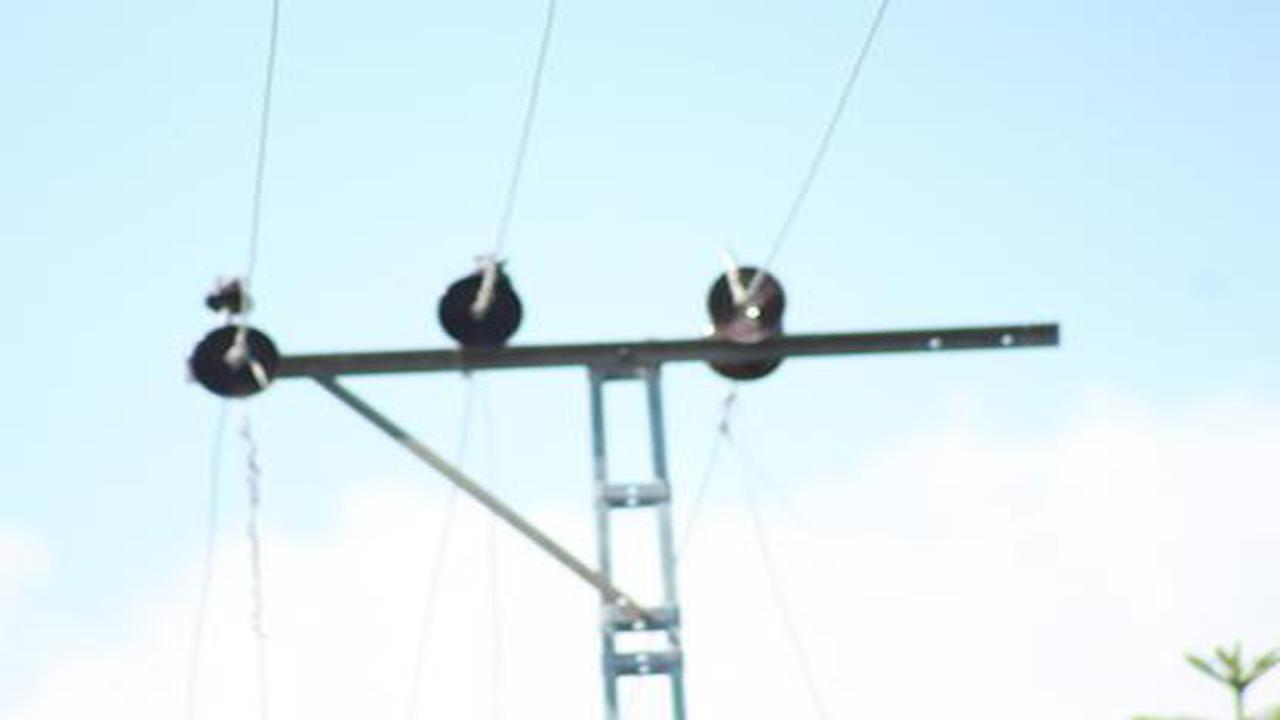insulator_disc: (436, 257, 538, 351), (184, 326, 290, 404), (701, 263, 797, 343)
insulator_pin: (202, 276, 259, 317)
